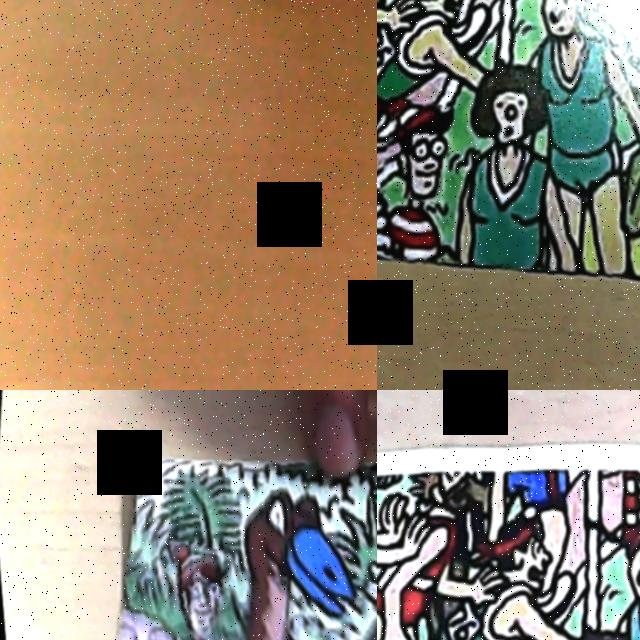waldo: (377, 99, 453, 212), (151, 543, 231, 640)
